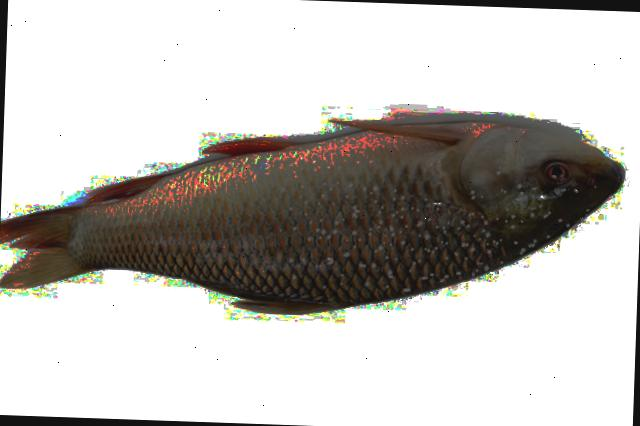Ichthyophthirius -White Spots-: (0, 121, 622, 312), (0, 121, 622, 312), (0, 121, 622, 312)
